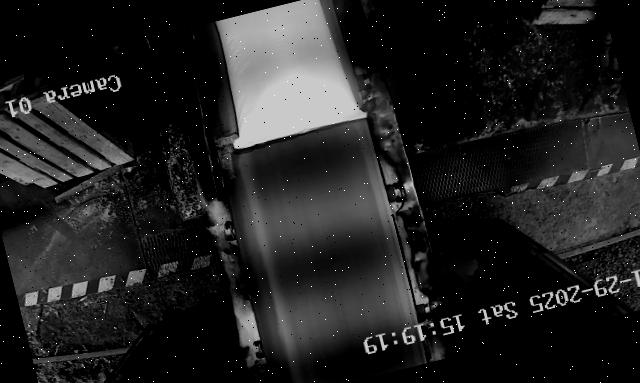bag: (203, 0, 368, 149)
